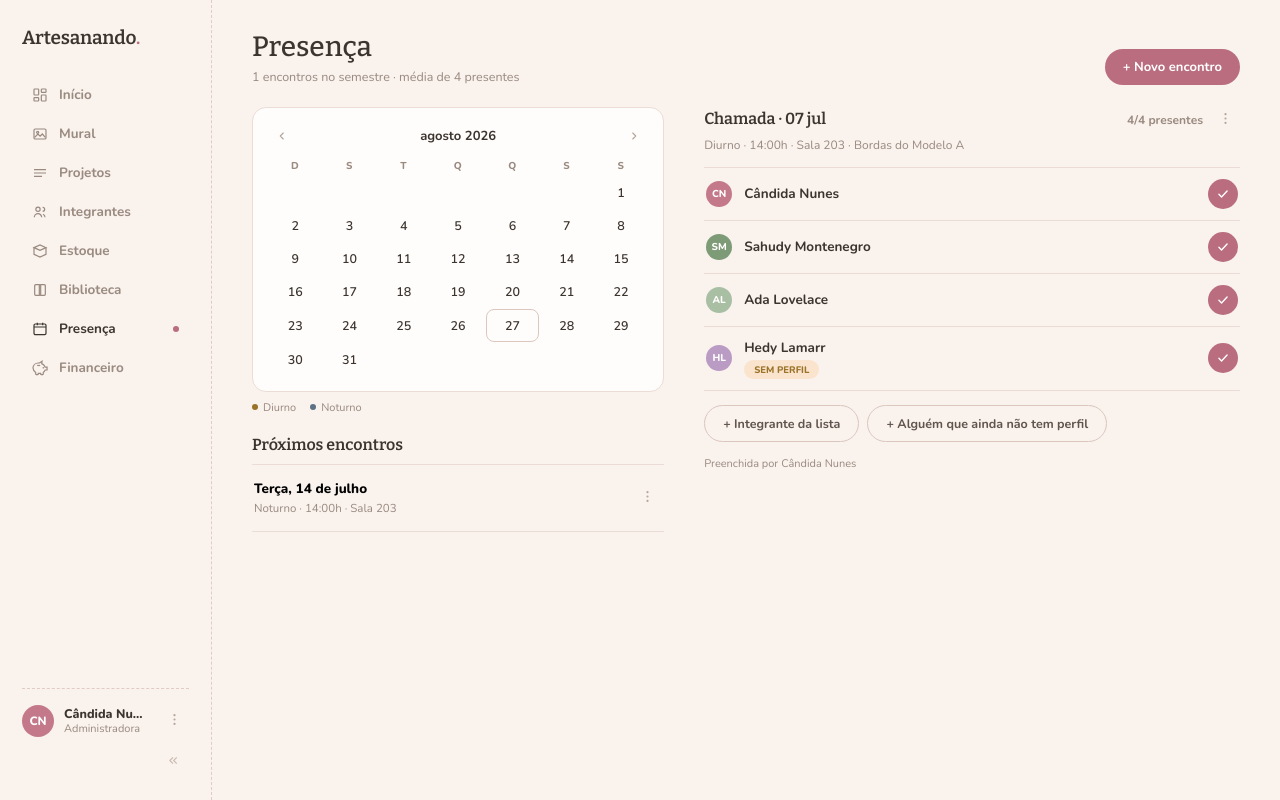
it: presença (M4) › dá para editar e cancelar um encontro, e arquivar deixou de existir
Step 1. Click the button named "Ações do encontro de 07 jul" → (1226, 120), box [1211,107,1240,133]
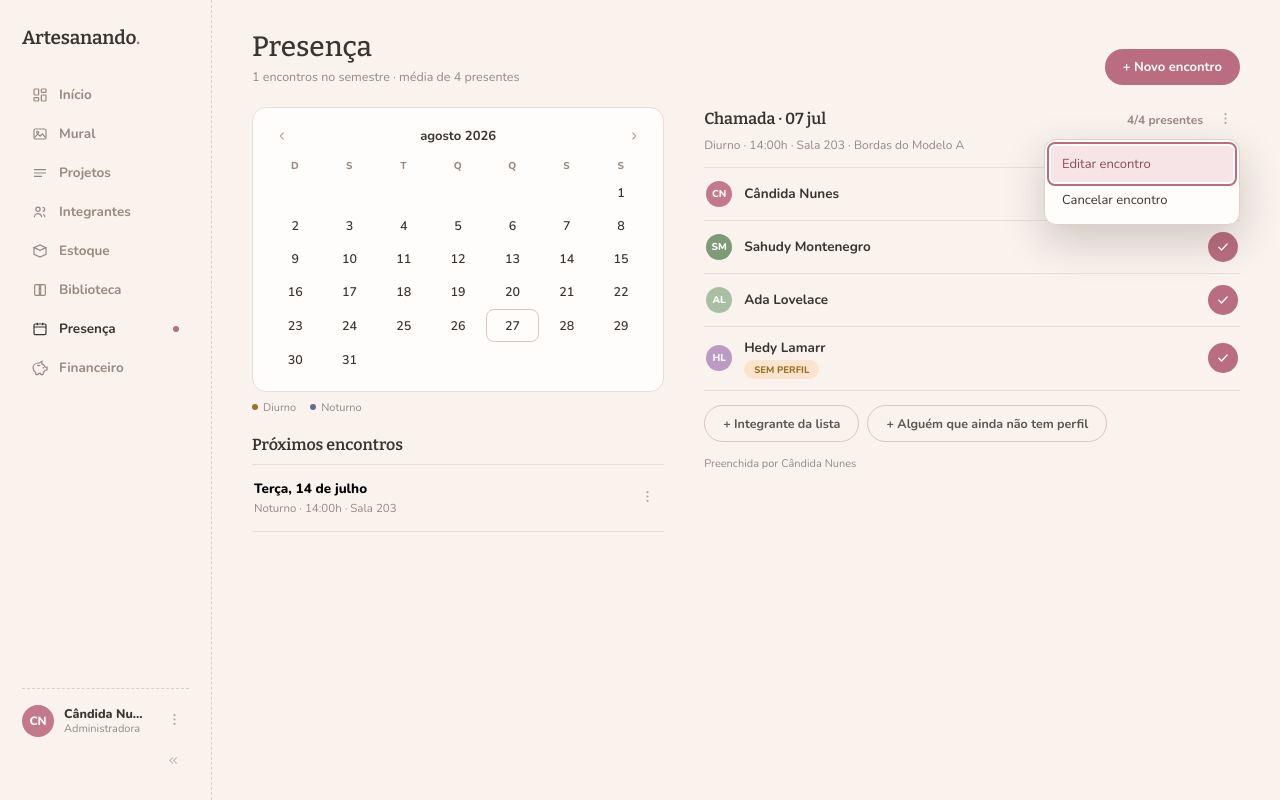
Expected: the menu item "Editar encontro" is shown, [1051,146,1233,182]
Expected: the menu item "Cancelar encontro" is shown, [1051,182,1233,218]
